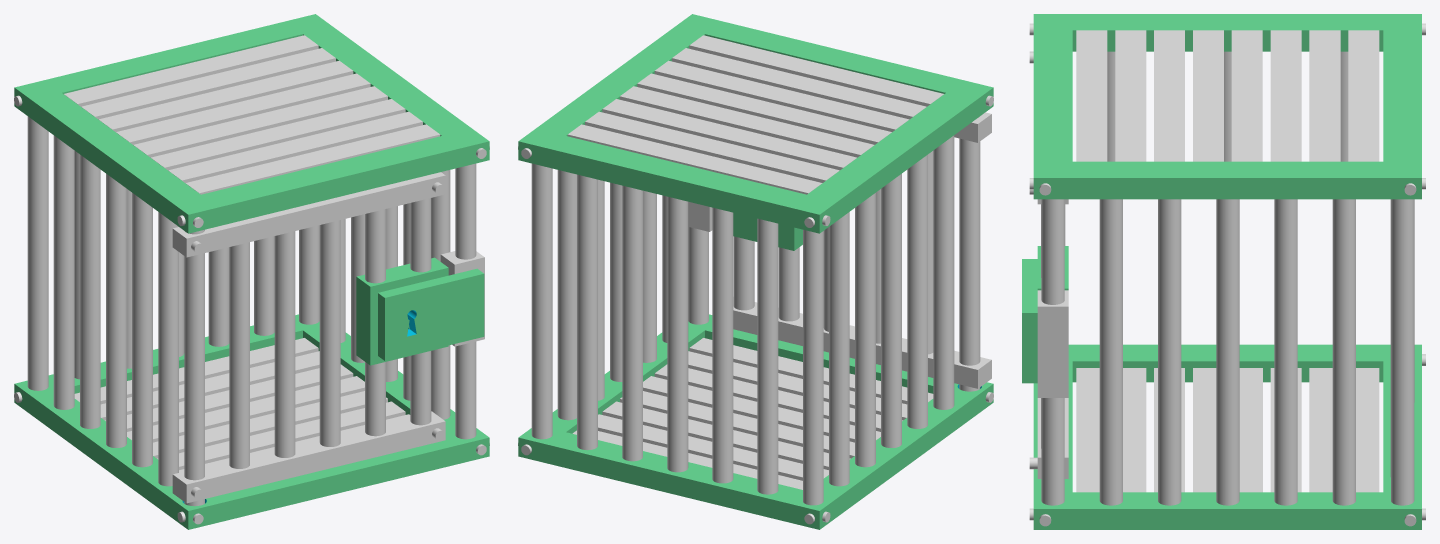
Rendered from Cage.fbx.
The picture shows the model from 3 angles, left to right: view 1: azimuth 30°, elevation 25°; view 2: azimuth 150°, elevation 25°; view 3: azimuth 270°, elevation 25°; orthographic projection. The views are drawn at different scales.
Parts seen in each view (by area): view 1: imagetostl_mesh30, imagetostl_mesh47, imagetostl_mesh13, imagetostl_mesh10, imagetostl_mesh11, imagetostl_mesh53, imagetostl_mesh54, imagetostl_mesh50, imagetostl_mesh51, imagetostl_mesh52, imagetostl_mesh49, imagetostl_mesh6 (+33 smaller); view 2: imagetostl_mesh30, imagetostl_mesh47, imagetostl_mesh62, imagetostl_mesh63, imagetostl_mesh61, imagetostl_mesh64, imagetostl_mesh49, imagetostl_mesh54, imagetostl_mesh65, imagetostl_mesh66, imagetostl_mesh53, imagetostl_mesh52 (+34 smaller); view 3: imagetostl_mesh30, imagetostl_mesh47, imagetostl_mesh56, imagetostl_mesh57, imagetostl_mesh58, imagetostl_mesh59, imagetostl_mesh60, imagetostl_mesh61, imagetostl_mesh55, imagetostl_mesh22, imagetostl_mesh23, imagetostl_mesh24 (+19 smaller).
Boxes of the visible parts, left/top/right/bottom form: imagetostl_mesh30: left=14, top=14, right=489, bottom=233; imagetostl_mesh47: left=14, top=314, right=489, bottom=529; imagetostl_mesh13: left=378, top=268, right=484, bottom=360; imagetostl_mesh10: left=172, top=411, right=445, bottom=503; imagetostl_mesh11: left=172, top=172, right=445, bottom=257; imagetostl_mesh53: left=53, top=135, right=74, bottom=409; imagetostl_mesh54: left=27, top=116, right=48, bottom=390; imagetostl_mesh50: left=132, top=193, right=152, bottom=467; imagetostl_mesh51: left=106, top=173, right=126, bottom=447; imagetostl_mesh52: left=80, top=154, right=100, bottom=428; imagetostl_mesh49: left=158, top=212, right=178, bottom=486; imagetostl_mesh6: left=274, top=207, right=295, bottom=457; imagetostl_mesh30: left=518, top=14, right=993, bottom=233; imagetostl_mesh47: left=518, top=314, right=993, bottom=529; imagetostl_mesh62: left=757, top=218, right=778, bottom=494; imagetostl_mesh63: left=712, top=207, right=733, bottom=483; imagetostl_mesh61: left=531, top=163, right=552, bottom=439; imagetostl_mesh64: left=667, top=196, right=688, bottom=472; imagetostl_mesh49: left=933, top=135, right=954, bottom=409; imagetostl_mesh54: left=803, top=229, right=823, bottom=505; imagetostl_mesh65: left=622, top=185, right=642, bottom=461; imagetostl_mesh66: left=577, top=174, right=597, bottom=450; imagetostl_mesh53: left=829, top=212, right=849, bottom=486; imagetostl_mesh52: left=855, top=193, right=875, bottom=467; imagetostl_mesh30: left=1033, top=14, right=1421, bottom=199; imagetostl_mesh47: left=1033, top=344, right=1421, bottom=529; imagetostl_mesh56: left=1099, top=199, right=1122, bottom=505; imagetostl_mesh57: left=1158, top=199, right=1181, bottom=505; imagetostl_mesh58: left=1216, top=199, right=1239, bottom=505; imagetostl_mesh59: left=1274, top=199, right=1297, bottom=505; imagetostl_mesh60: left=1332, top=199, right=1355, bottom=505; imagetostl_mesh61: left=1391, top=199, right=1414, bottom=505; imagetostl_mesh55: left=1041, top=199, right=1064, bottom=505; imagetostl_mesh22: left=1348, top=30, right=1379, bottom=161; imagetostl_mesh23: left=1309, top=30, right=1340, bottom=161; imagetostl_mesh24: left=1270, top=30, right=1301, bottom=161.
Size of the model in its own units: 5100 by 5004 by 5200.
